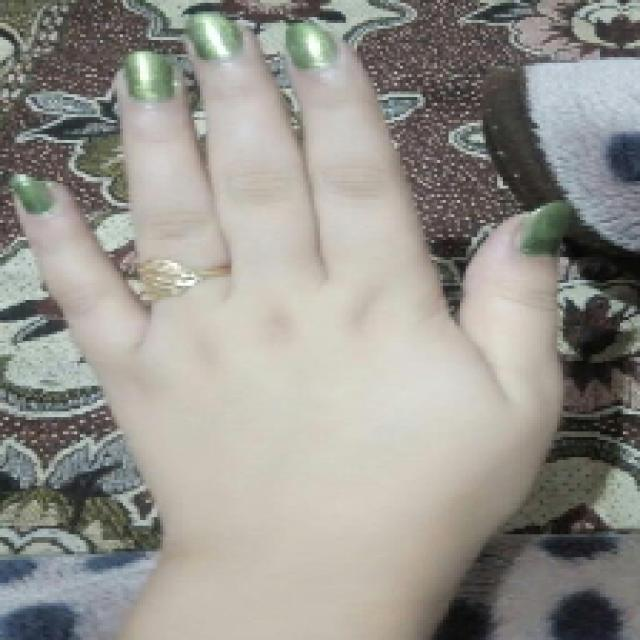Nail: (520, 201, 572, 256), (186, 11, 242, 60), (286, 21, 338, 70), (125, 52, 174, 101), (11, 175, 56, 215)
